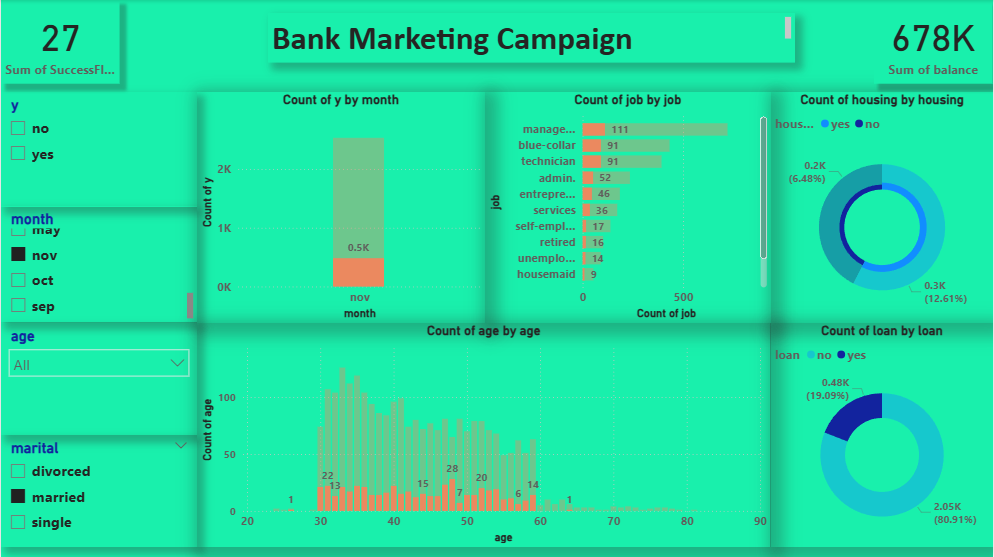

What the dashboard file says about the page in this screenshot:
{"tool":"powerbi","page":{"name":"Bank Marketing Campaign Dashboard","canvas":[1280,720],"ordinal":4},"visuals":[{"type":"clusteredColumnChart","fields":{"Category":["bank-full.age"],"Y":["CountNonNull(bank-full.age)"]},"box":[253.4,416.2,740.2,289.4],"z":0},{"type":"clusteredBarChart","fields":{"Category":["bank-full.job"],"Y":["CountNonNull(bank-full.job)"]},"box":[625,118.1,368.6,298.1],"z":1000},{"type":"clusteredColumnChart","fields":{"Category":["bank-full.month"],"Y":["CountNonNull(bank-full.y)"]},"box":[253.4,118.1,371.5,298.1],"z":2000},{"type":"slicer","fields":{"Values":["bank-full.y"]},"box":[0,118.1,253.4,148.3],"z":3000},{"type":"slicer","fields":{"Values":["bank-full.month"]},"box":[0,266.4,253.4,149.8],"z":4000},{"type":"slicer","fields":{"Values":["bank-full.age"]},"box":[0,416.2,253.4,145.4],"z":5000},{"type":"slicer","fields":{"Values":["bank-full.marital"]},"box":[0,561.6,253.4,144],"z":6000},{"type":"donutChart","fields":{"Y":["CountNonNull(bank-full.housing)"],"Category":["bank-full.housing"]},"box":[993.6,118.1,286.6,298.1],"z":7000},{"type":"donutChart","fields":{"Category":["bank-full.loan"],"Y":["CountNonNull(bank-full.loan)"]},"box":[993.6,416.2,286.6,289.4],"z":8000},{"type":"textbox","box":[344.4,17,680.3,63.8],"z":8001},{"type":"card","fields":{"Values":["Sum(bank-full.SuccessFlag)"]},"box":[0,0,153.1,107.7],"z":8002},{"type":"card","fields":{"Values":["Sum(bank-full.balance)"]},"box":[1126.8,0,153.1,107.7],"z":8003}]}

Visuals, with their boxes in screenshot pixels (x1, y1, x2, y2), scaled from the page's 1280x720 canvas onto the 994x557 screenshot:
clusteredColumnChart - bank-full.age x CountNonNull(bank-full.age): [left=197, top=322, right=772, bottom=546]
clusteredBarChart - bank-full.job x CountNonNull(bank-full.job): [left=485, top=91, right=772, bottom=322]
clusteredColumnChart - bank-full.month x CountNonNull(bank-full.y): [left=197, top=91, right=485, bottom=322]
slicer - bank-full.y: [left=0, top=91, right=197, bottom=206]
slicer - bank-full.month: [left=0, top=206, right=197, bottom=322]
slicer - bank-full.age: [left=0, top=322, right=197, bottom=434]
slicer - bank-full.marital: [left=0, top=434, right=197, bottom=546]
donutChart - CountNonNull(bank-full.housing) x bank-full.housing: [left=772, top=91, right=993, bottom=322]
donutChart - bank-full.loan x CountNonNull(bank-full.loan): [left=772, top=322, right=993, bottom=546]
textbox: [left=267, top=13, right=796, bottom=63]
card - Sum(bank-full.SuccessFlag): [left=0, top=0, right=119, bottom=83]
card - Sum(bank-full.balance): [left=875, top=0, right=993, bottom=83]
